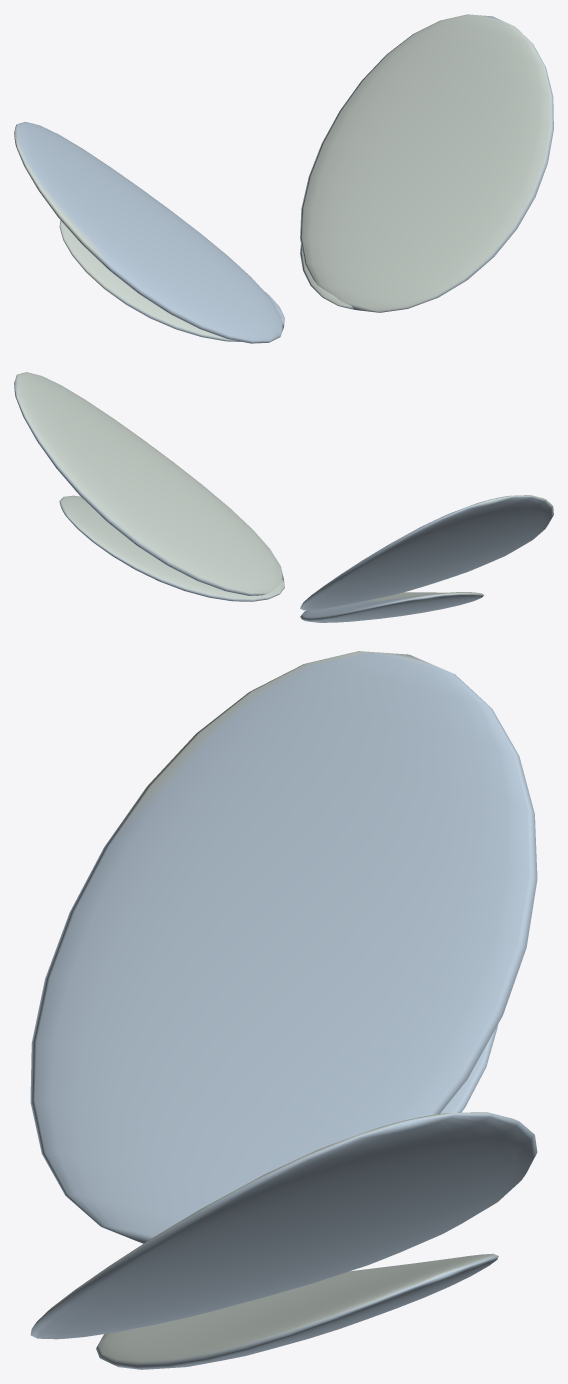
Rendered from bumblebee-starfighter-translucent.obj.
3 renders of one model, top to bottom at view 1: azimuth 30°, elevation 25°; view 2: azimuth 150°, elevation 25°; view 3: azimuth 270°, elevation 25°, orthographic. The views are drawn at different scales.
Parts seen in each view (by area): view 1: translucent; view 2: translucent; view 3: translucent.
Boxes of the visible parts, x1,y1,x2,y2 form: translucent: (14, 14, 553, 343); translucent: (14, 372, 553, 622); translucent: (30, 651, 537, 1369).
Size of the model in its own units: 160 by 59.29 by 69.33.
